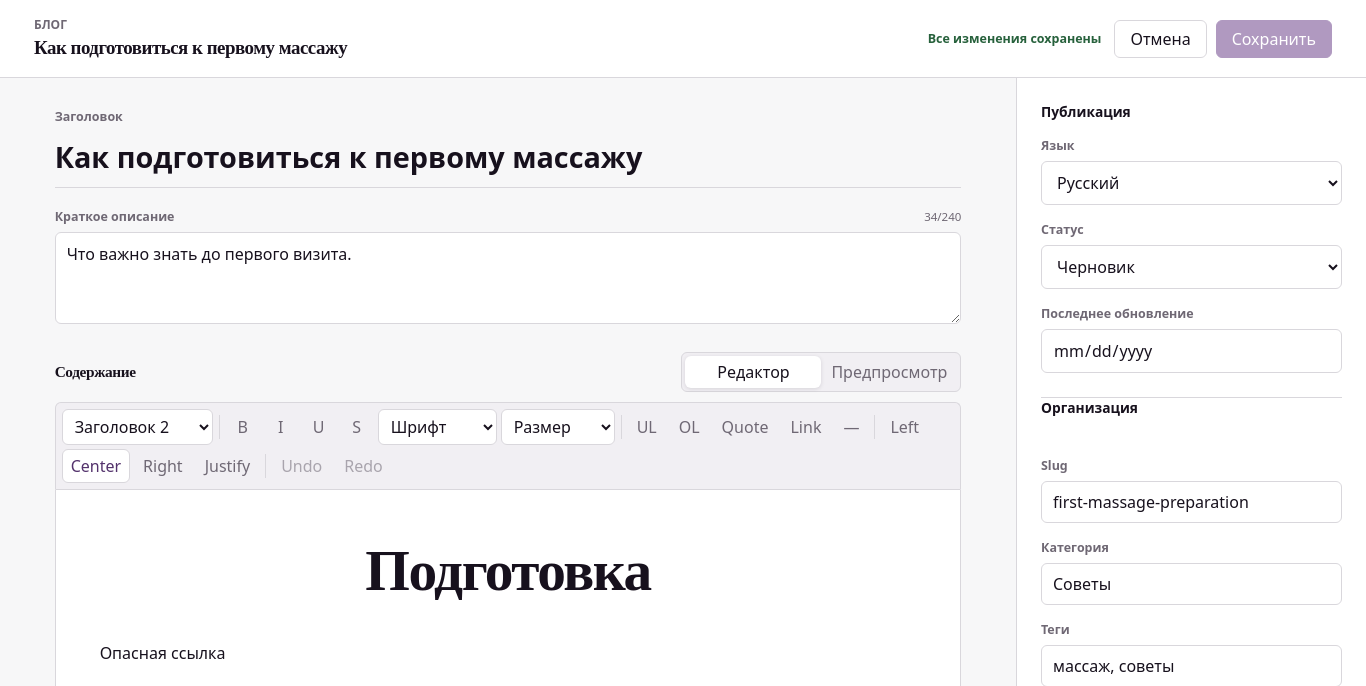
Test: BlogArticleEditor › keeps unsaved state visible when server persistence rejects the save
Step 1. Replace the text in the field labelled "Заголовок" with "Обновленная статья" → (508, 160), box [55,132,961,188]
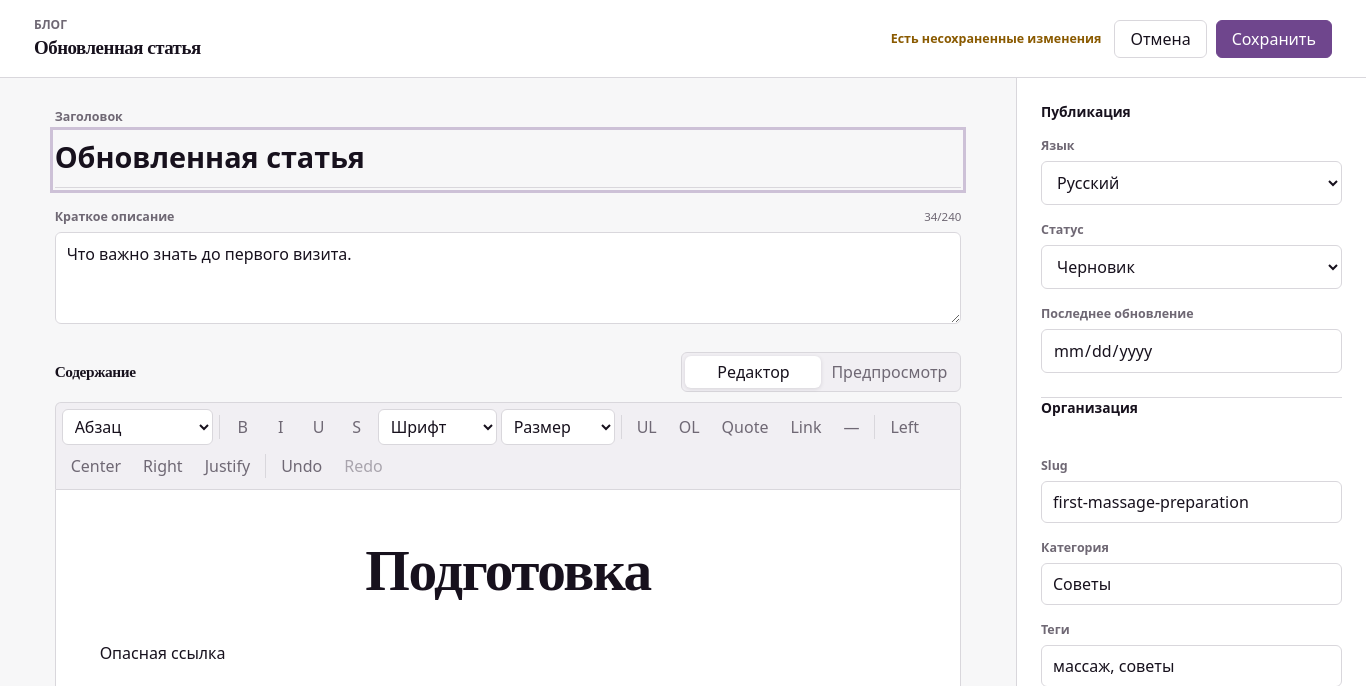
Step 2. Click the button "Сохранить" → (1274, 38), box [1216,20,1332,58]
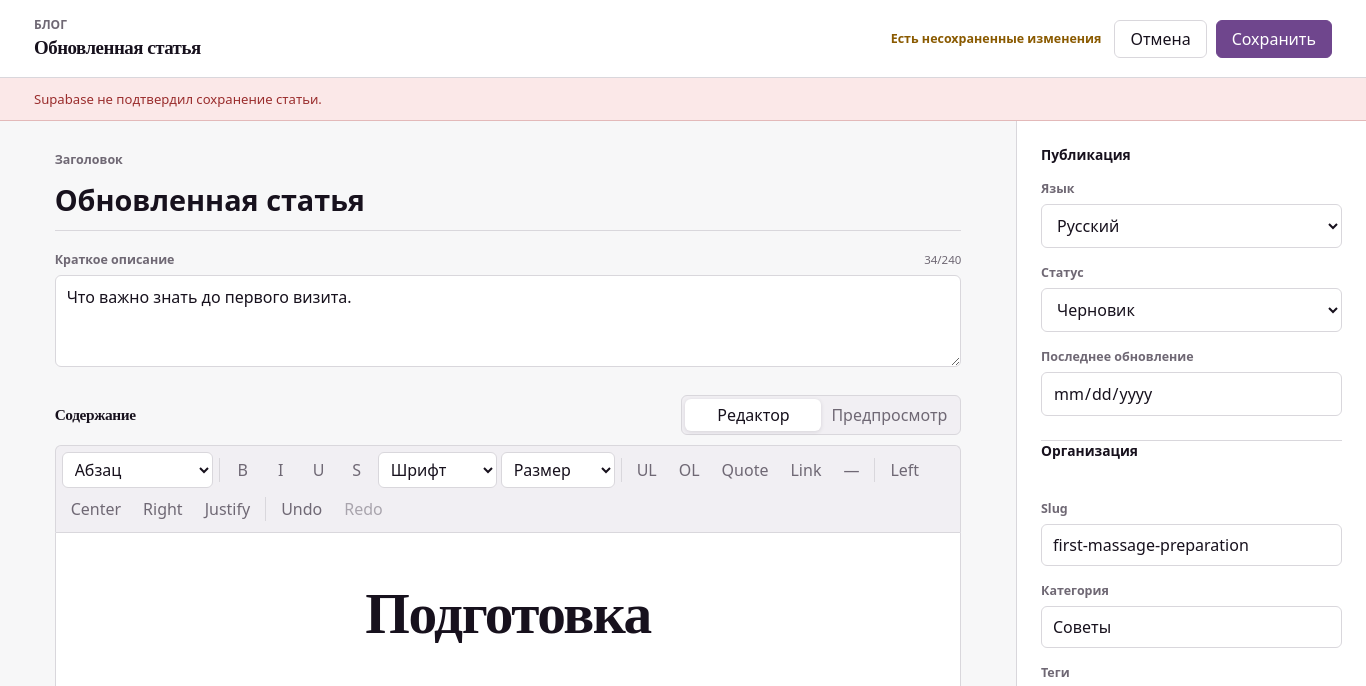
Result: the message "Есть несохраненные изменения" is shown at [891,30,1101,47]
Result: the message "Supabase не подтвердил сохранение статьи." is shown at [0,78,1365,121]
